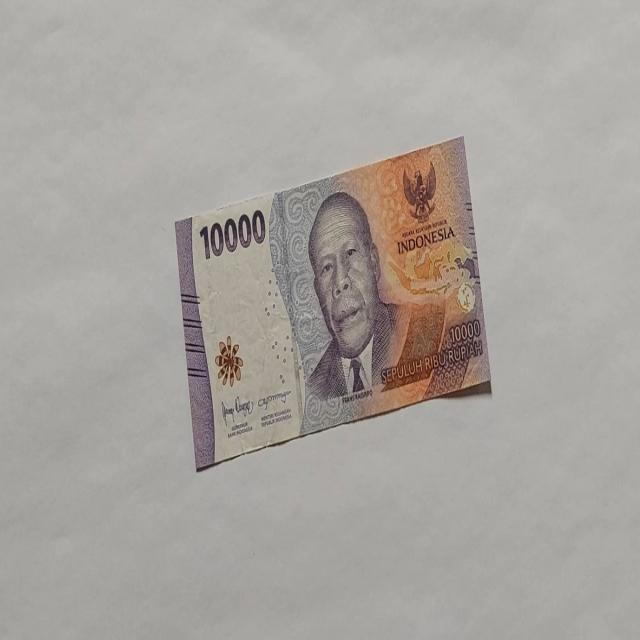sepuluh ribu rupiah: (173, 133, 492, 471), (301, 190, 403, 404)
